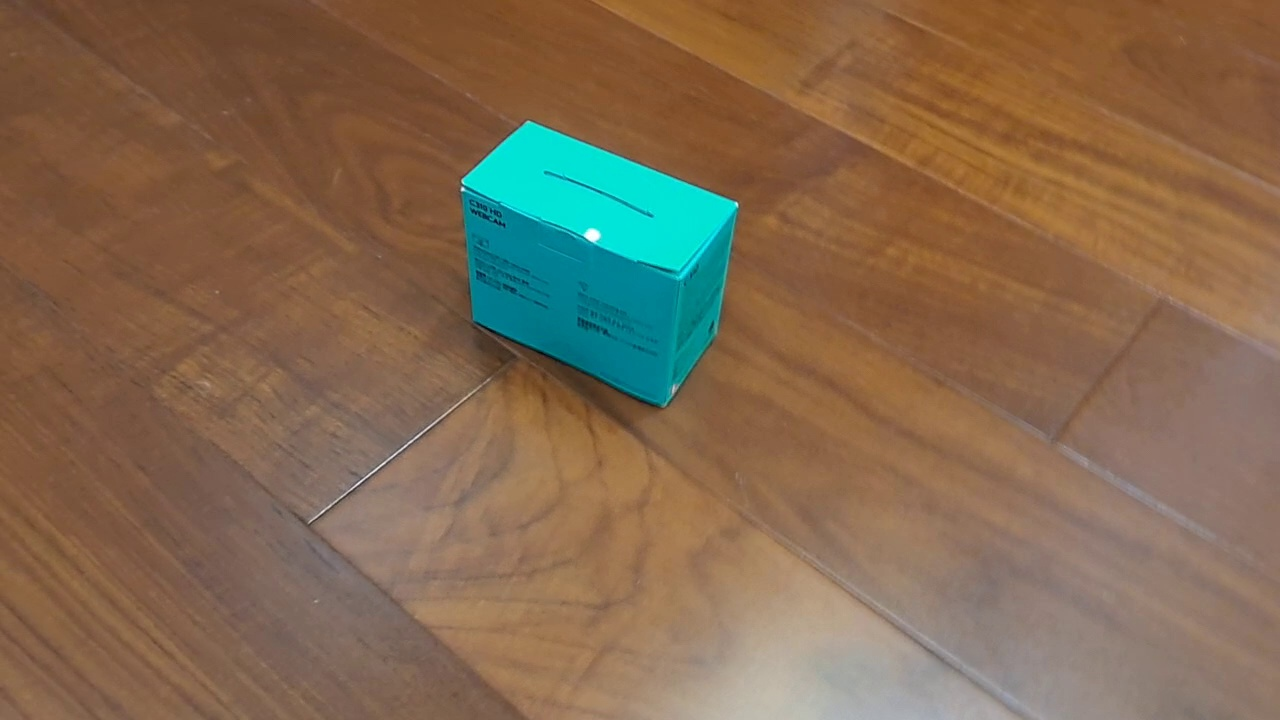webcam: (458, 118, 741, 411)
